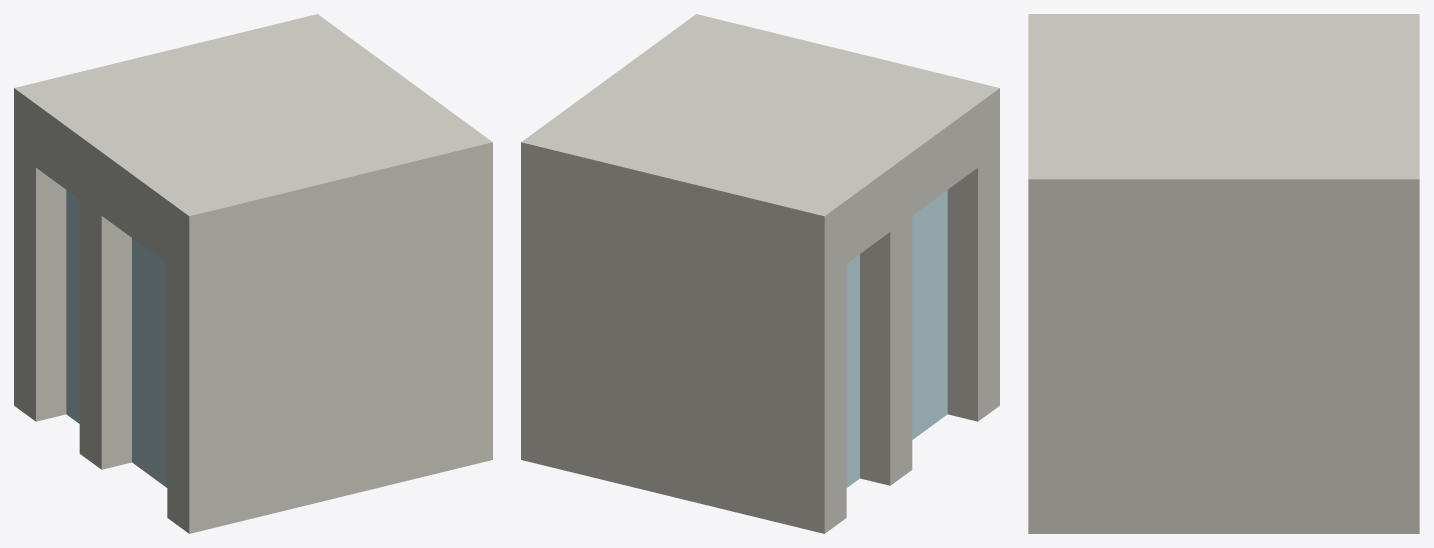
File: Building Story 3.fbx
3 renders of one model, left to right at view 1: azimuth 30°, elevation 25°; view 2: azimuth 150°, elevation 25°; view 3: azimuth 270°, elevation 25°, orthographic. The views are drawn at different scales.
Visible parts, largest first — view 1: Building Story 3; view 2: Building Story 3; view 3: Building Story 3.
Part boxes in pixels (x1=…): Building Story 3: x1=14, y1=14, x2=492, y2=533; Building Story 3: x1=521, y1=14, x2=999, y2=533; Building Story 3: x1=1028, y1=14, x2=1419, y2=533.
Size of the model in its own units: 1 by 1 by 1.
